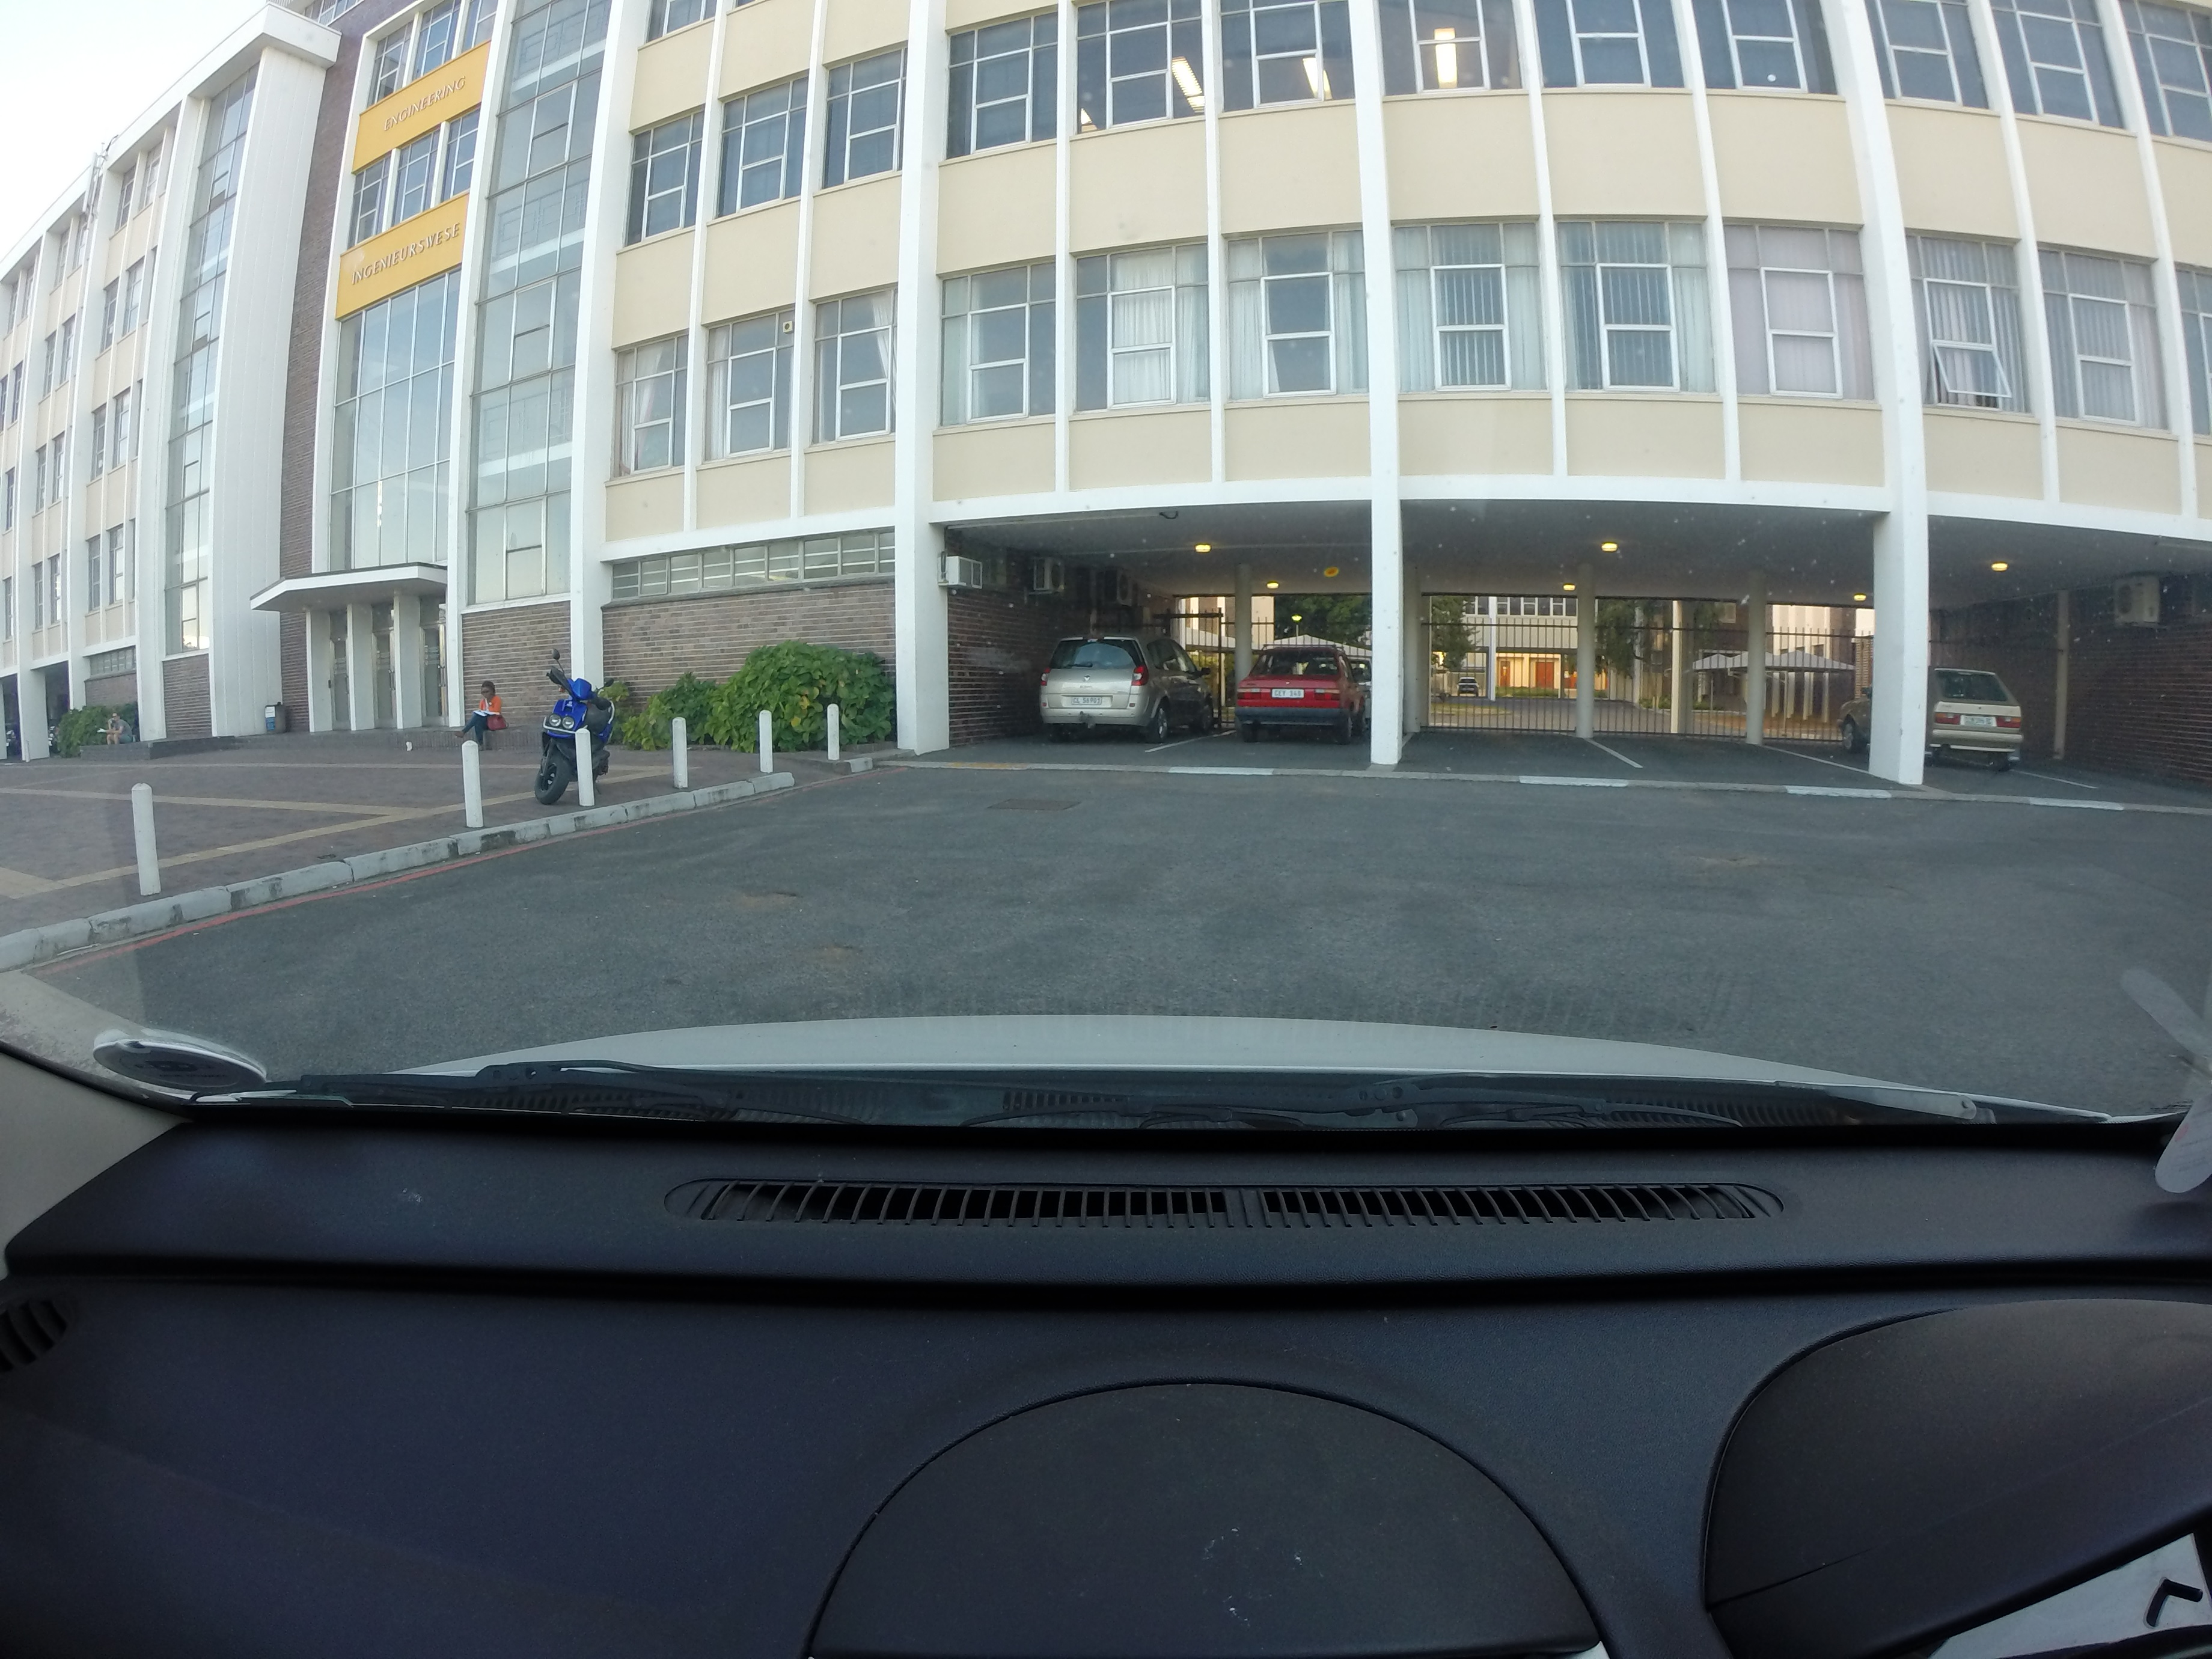pothole: (1686, 847, 1796, 871), (721, 882, 805, 908), (812, 939, 880, 957)
